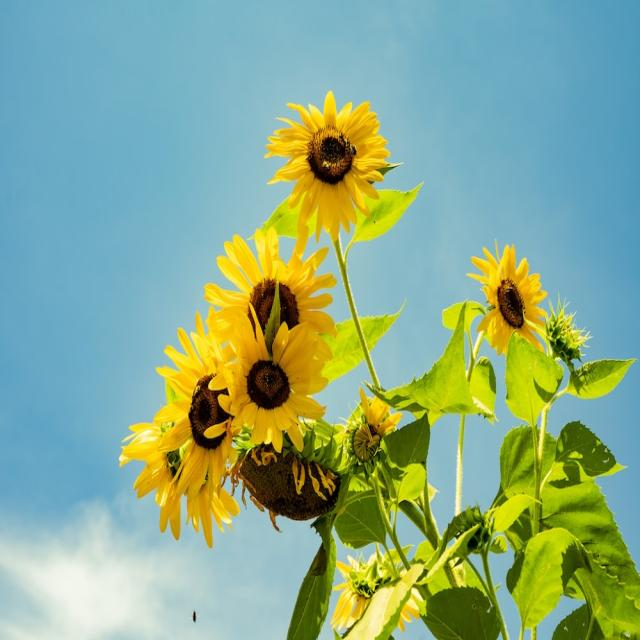sunflower: (193, 358, 370, 539), (152, 299, 278, 512), (260, 88, 395, 253), (200, 294, 335, 456), (202, 222, 342, 378), (115, 400, 241, 548), (464, 232, 559, 364), (322, 545, 442, 640), (326, 379, 408, 491)
